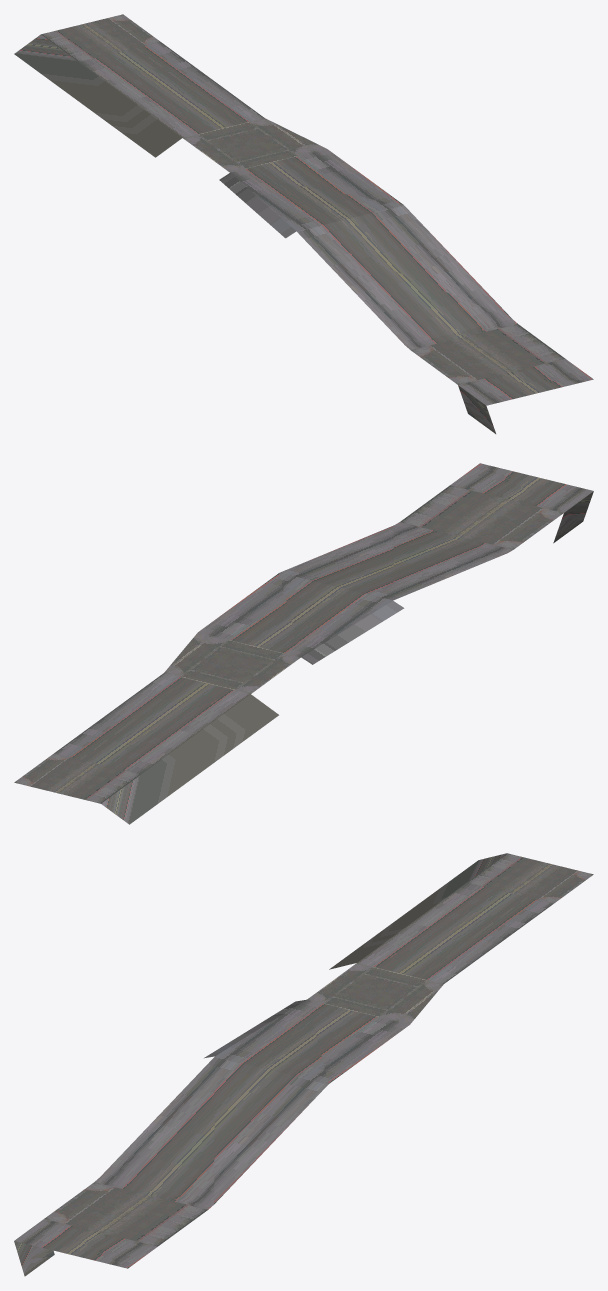
The model's file is lodd07_sfe.obj.
3 views of the same model, one above another, from view 1: azimuth 30°, elevation 25°; view 2: azimuth 150°, elevation 25°; view 3: azimuth 330°, elevation 25° (orthographic). The views are drawn at different scales.
Parts seen in each view (by area): view 1: LODd07_sfe; view 2: LODd07_sfe; view 3: LODd07_sfe.
Boxes of the visible parts, x1=… form: LODd07_sfe: x1=14, y1=14, x2=593, y2=433; LODd07_sfe: x1=14, y1=463, x2=593, y2=824; LODd07_sfe: x1=14, y1=853, x2=593, y2=1276.
Bounding box in the file's own units: 37.83 × 19.4 × 240.
3 materials, 3 textured.
